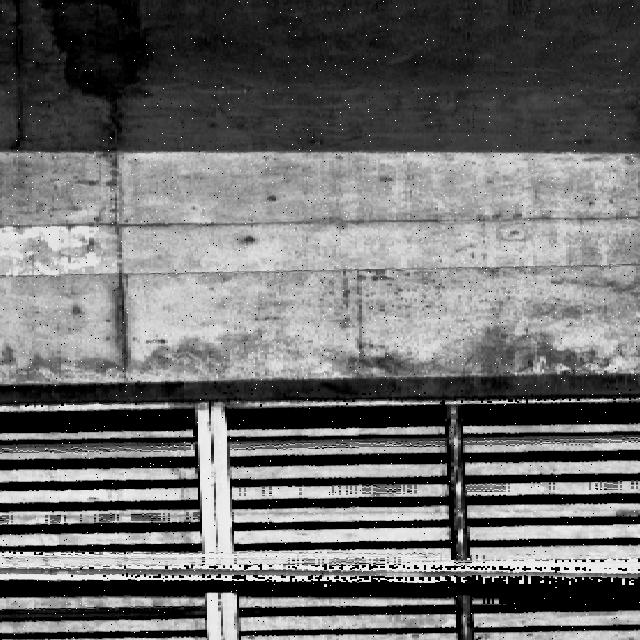leakage: (44, 1, 156, 139)
